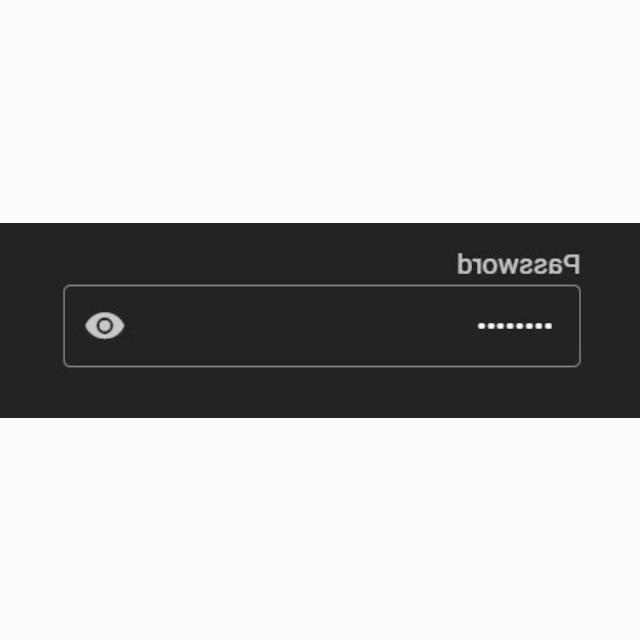QLabel: (456, 251, 582, 277)
VTextField: (63, 283, 582, 369)
